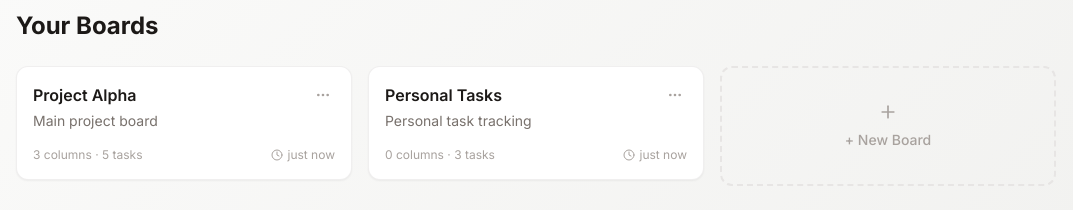
Test case: BoardList › delete board › shows dropdown menu when actions button is clicked
Expected: the heading "Project Alpha" is shown, [33,85,136,105]
Find the actions button for Project Alpha
Click the button named "Actions for Project Alpha": (323, 95) [311,83,335,107]
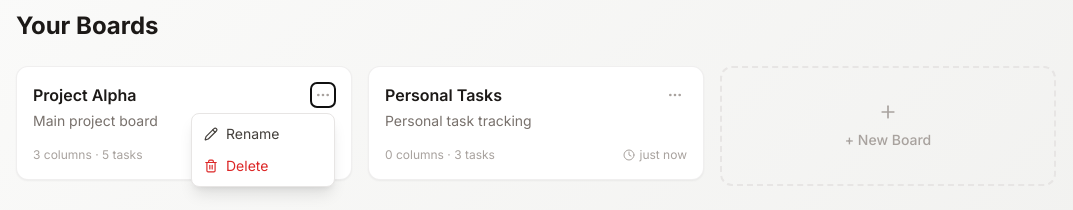
Now the button "Delete" is shown, box [192,150,334,182]
Now the button "Rename" is shown, box [192,118,334,150]
